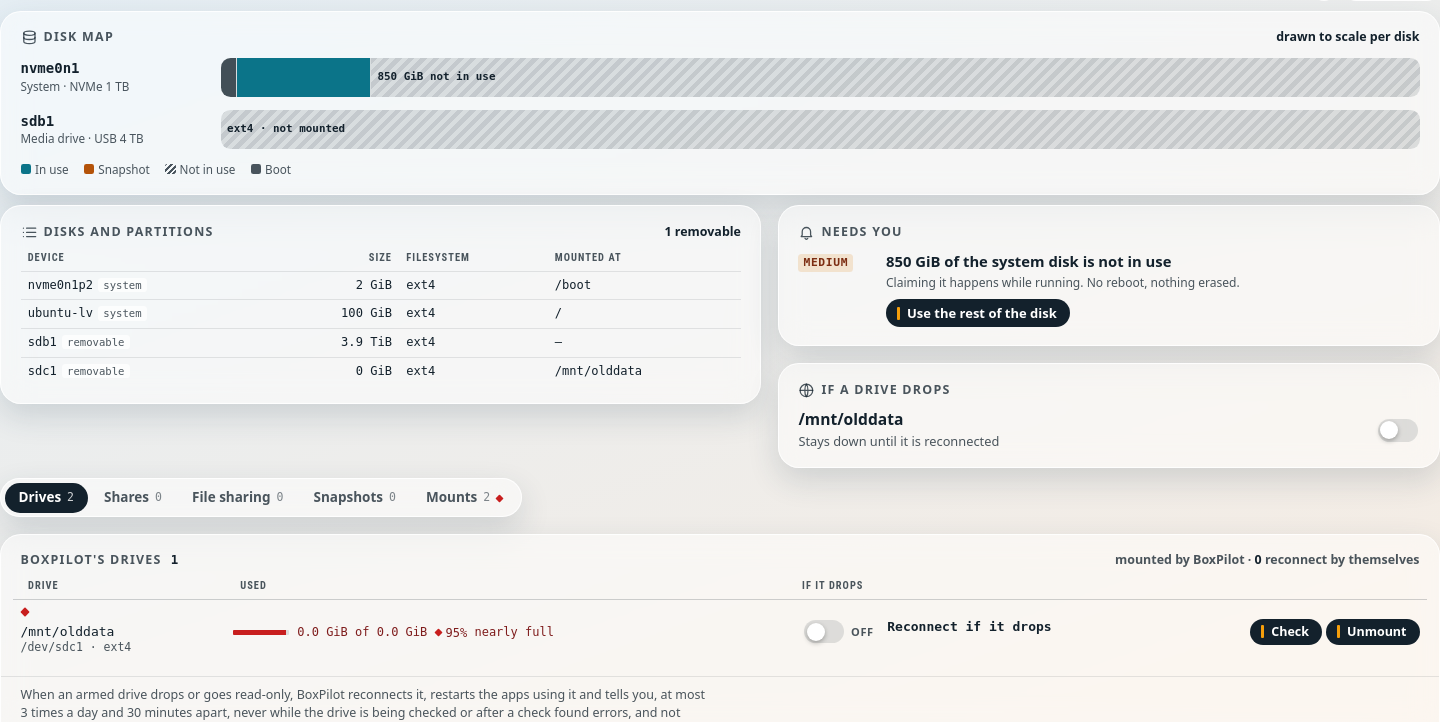
Storage page › File sharing › offers to install Samba and the NFS server when they are missing
Click the tab "File sharing 0": coordinates (238, 498) x1=178 y1=483 x2=298 y2=513
(page scrolled)
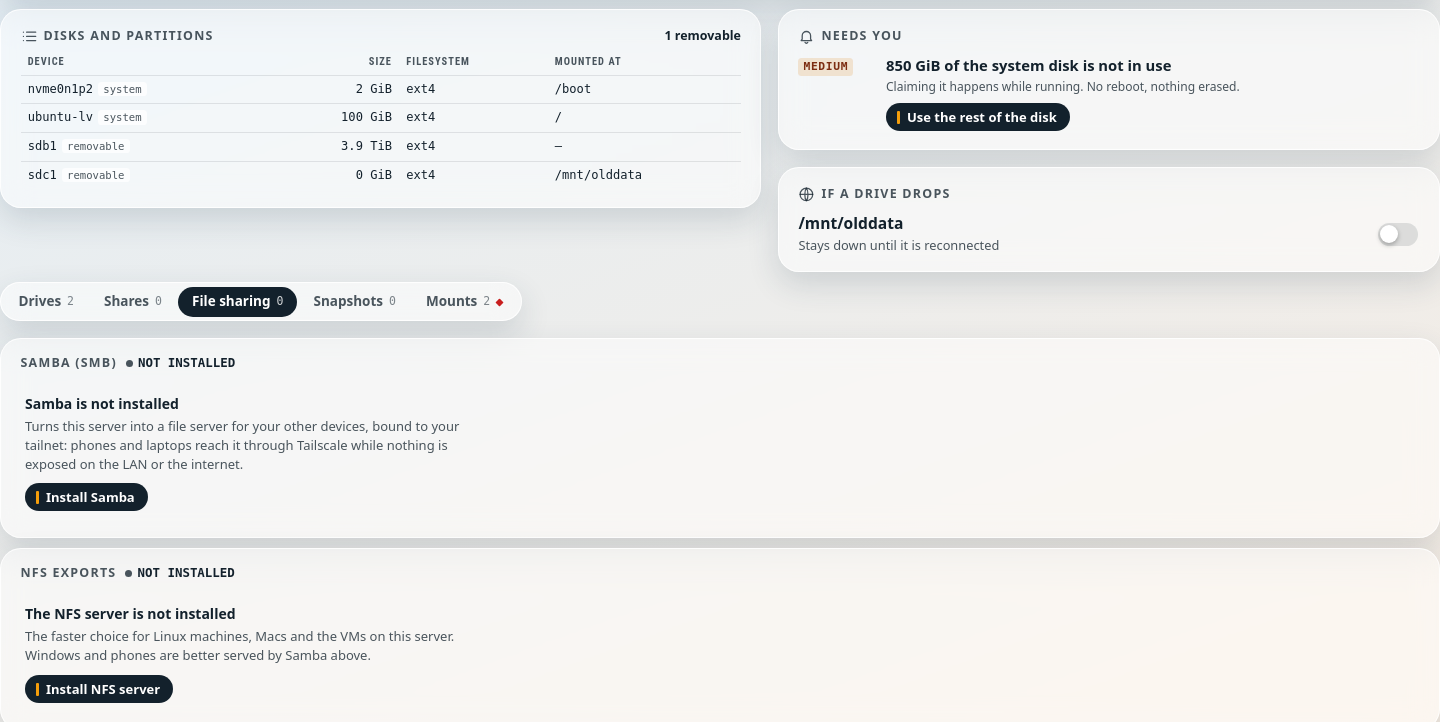
Check: the text "Samba is not installed" is shown, box x1=25 y1=394 x2=179 y2=413
Click the button "Install NFS server": coordinates (99, 689) x1=25 y1=675 x2=173 y2=703
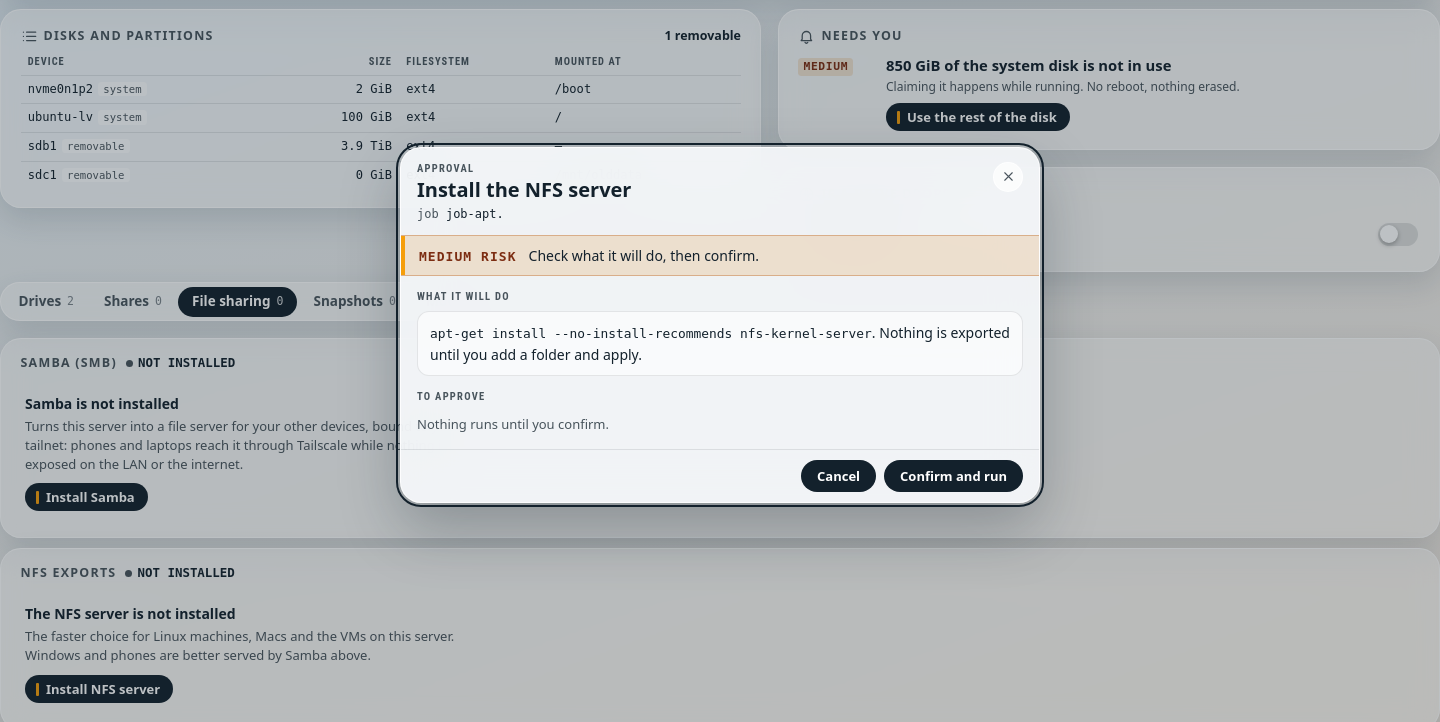
Check: the text "Medium risk" is shown, box x1=419 y1=249 x2=516 y2=264
